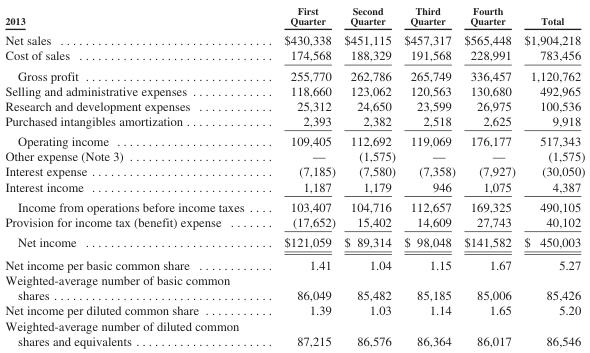table: (4, 4, 584, 347)
table column: (4, 4, 263, 347), (263, 4, 339, 347), (519, 4, 584, 347), (339, 4, 399, 347), (399, 4, 459, 347), (459, 4, 519, 347)
table column header: (4, 4, 584, 29)
table row: (4, 272, 584, 302), (4, 317, 584, 347), (4, 4, 584, 29), (4, 231, 584, 253), (4, 253, 584, 272), (4, 29, 584, 47), (4, 47, 584, 65), (4, 130, 584, 148), (4, 178, 584, 196), (4, 196, 584, 214), (4, 65, 584, 82), (4, 113, 584, 130), (4, 214, 584, 231), (4, 97, 584, 113), (4, 82, 584, 97), (4, 148, 584, 163), (4, 163, 584, 178), (4, 302, 584, 317)
